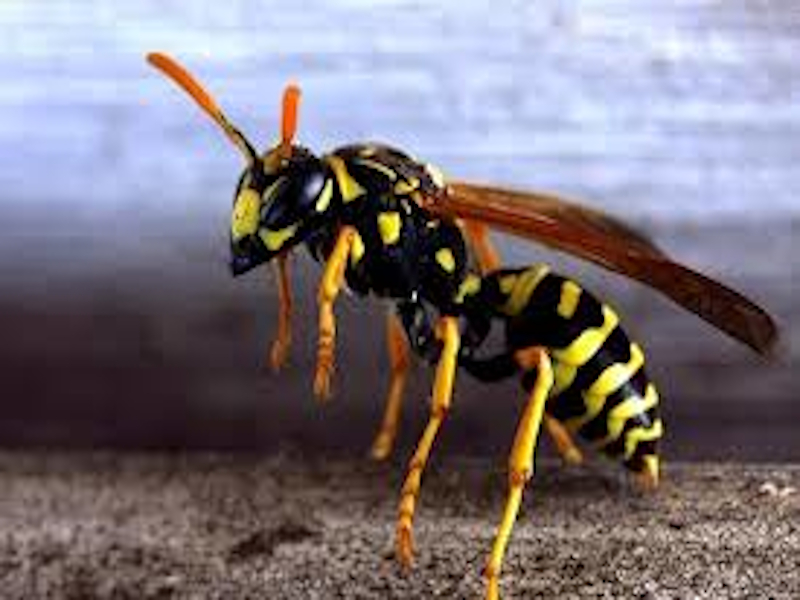chax: (140, 20, 779, 591)
